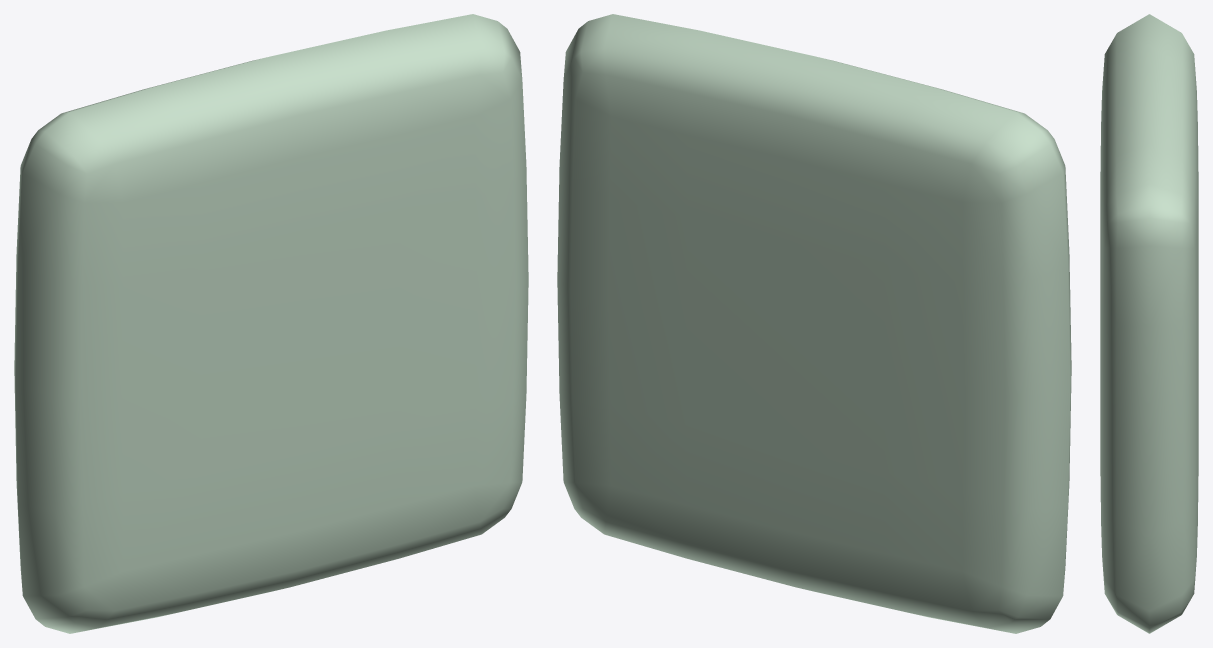
The model's file is SpinnerTileModel.fbx.
3 views of the same model, side by side, from view 1: azimuth 30°, elevation 25°; view 2: azimuth 150°, elevation 25°; view 3: azimuth 270°, elevation 25° (orthographic). The views are drawn at different scales.
Visible parts, largest first — view 1: SpinnerTileModel; view 2: SpinnerTileModel; view 3: SpinnerTileModel.
Boxes of the visible parts, <box> form: SpinnerTileModel: <box>14,14,528,633</box>; SpinnerTileModel: <box>557,14,1071,633</box>; SpinnerTileModel: <box>1100,14,1198,633</box>.
Bounding box in the file's own units: 1.04 × 1.04 × 0.2008.
